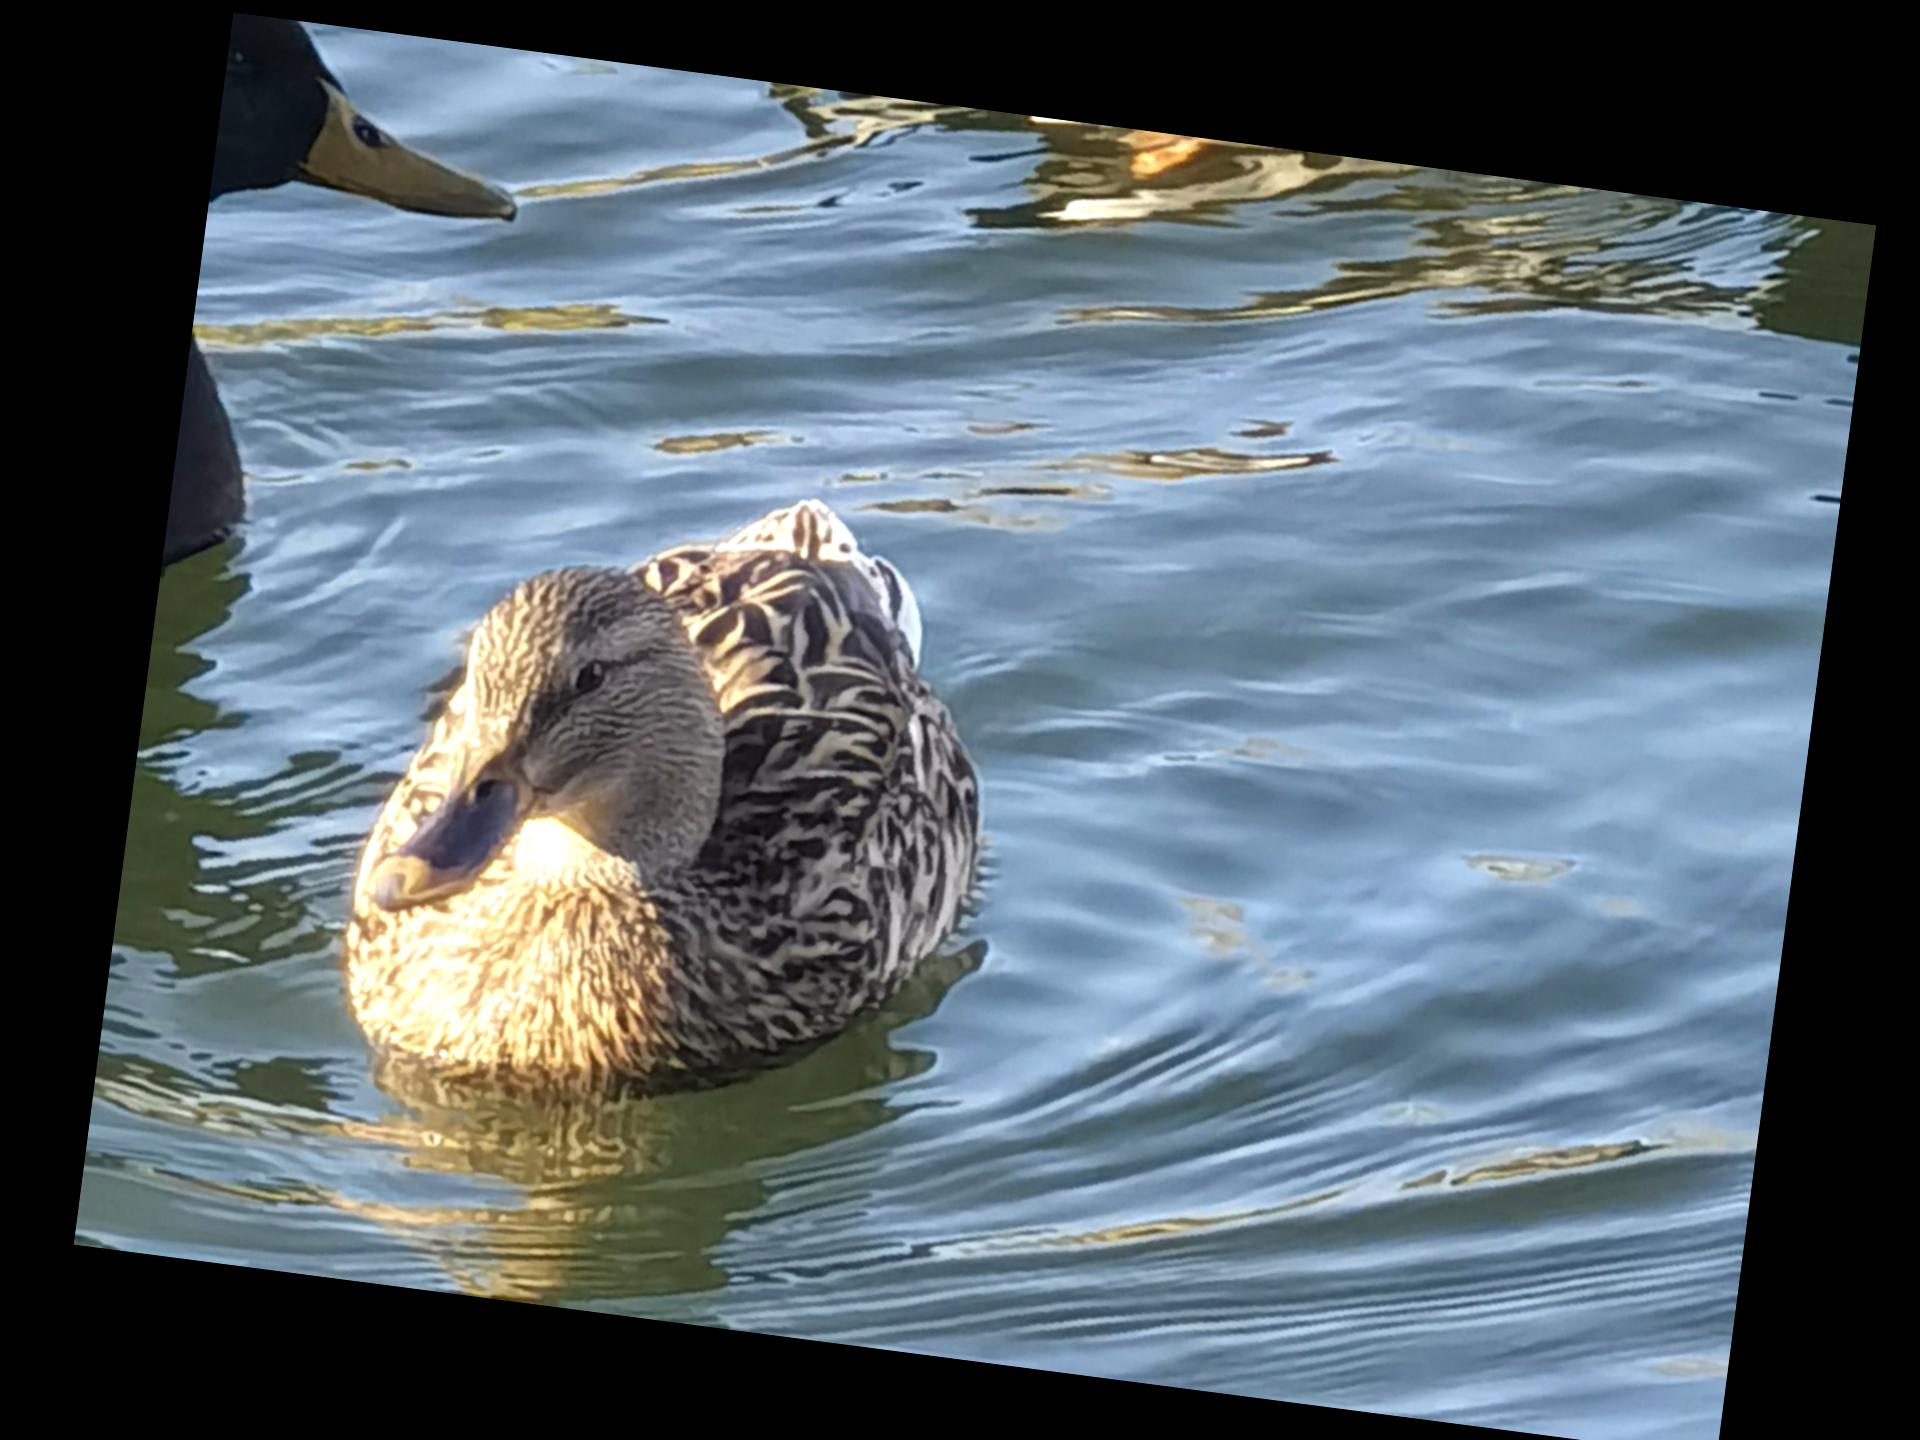duck: (292, 402, 1048, 1148)
